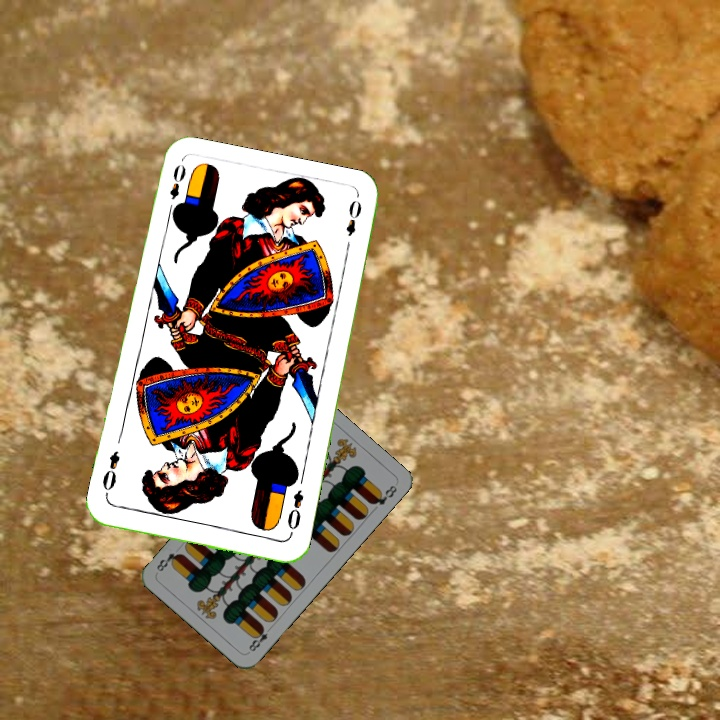E8: (244, 622, 275, 655)
EO: (283, 485, 306, 532), (166, 160, 188, 202)
